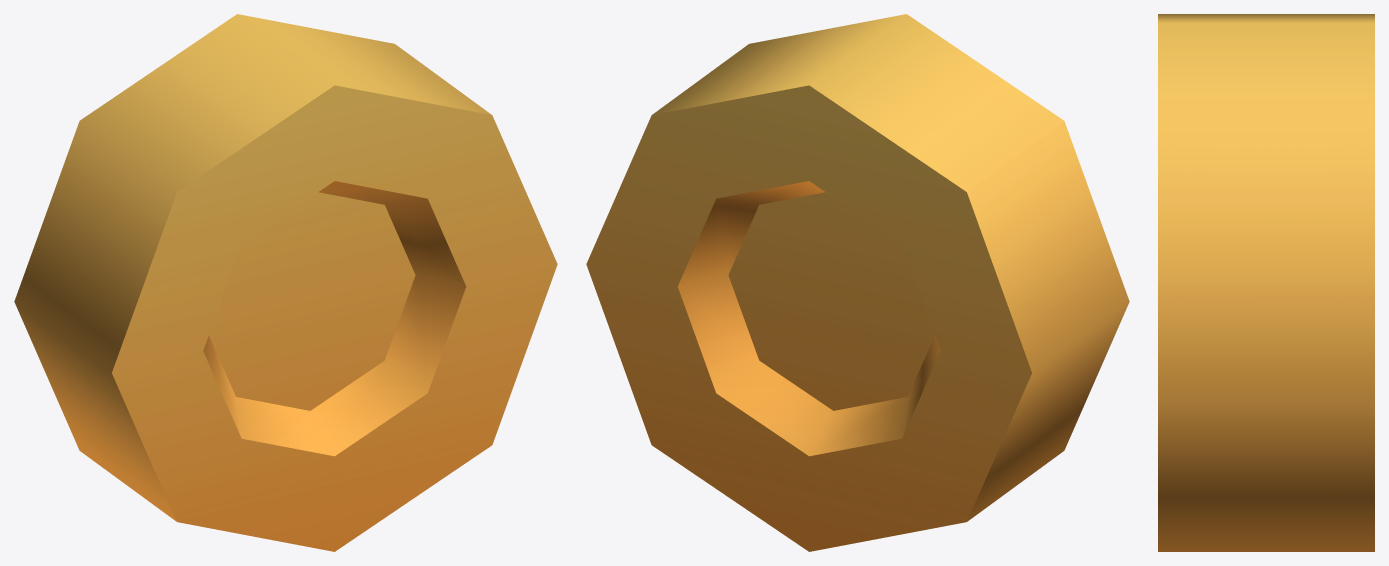
File: item-coin-gold.glb
3 renders of one model, left to right at view 1: azimuth 30°, elevation 25°; view 2: azimuth 150°, elevation 25°; view 3: azimuth 270°, elevation 25°, orthographic. The views are drawn at different scales.
Parts seen in each view (by area): view 1: item-coin-gold; view 2: item-coin-gold; view 3: item-coin-gold.
Boxes of the visible parts, left/top/right/bottom form: item-coin-gold: left=14, top=14, right=557, bottom=551; item-coin-gold: left=586, top=14, right=1129, bottom=551; item-coin-gold: left=1158, top=14, right=1374, bottom=551.
Size of the model in its own units: 0.264 by 0.264 by 0.1.
1 material, 1 textured.
